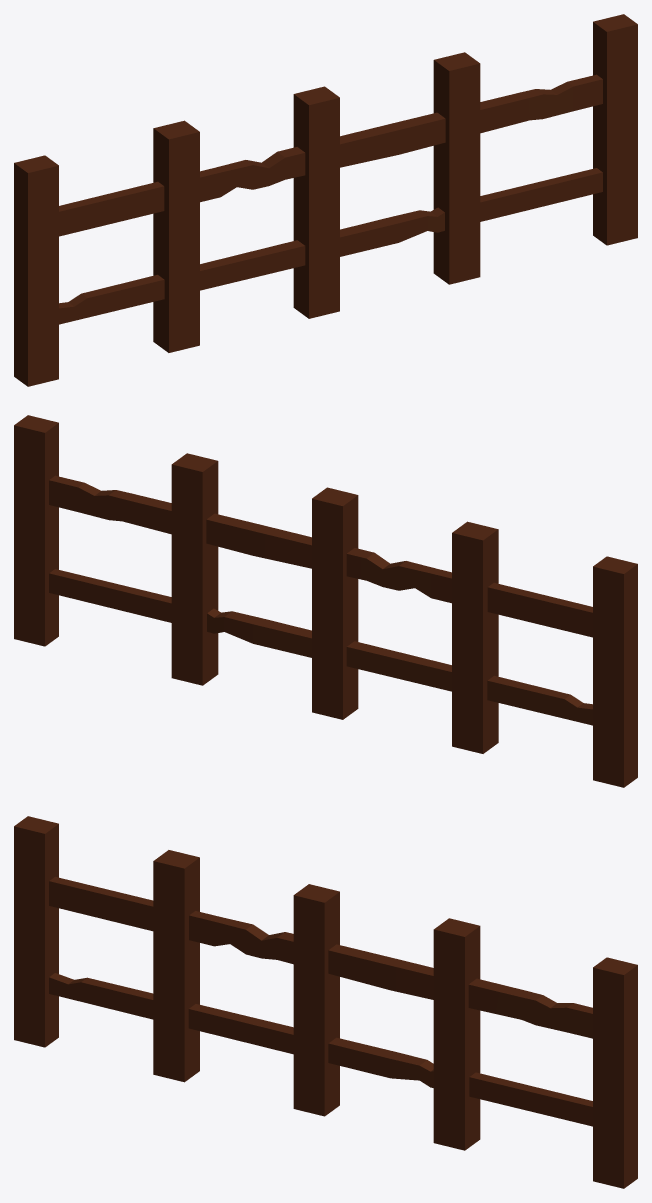
The model's file is Fence.obj.
The picture shows the model from 3 angles, top to bottom: view 1: azimuth 30°, elevation 25°; view 2: azimuth 150°, elevation 25°; view 3: azimuth 330°, elevation 25°; orthographic projection.
Parts seen in each view (by area): view 1: Fence_Cube.057; view 2: Fence_Cube.057; view 3: Fence_Cube.057.
Boxes of the visible parts, box(x1,y1,x2,y2) form: Fence_Cube.057: box(14, 14, 637, 386); Fence_Cube.057: box(14, 415, 637, 787); Fence_Cube.057: box(14, 816, 637, 1188).
Size of the model in its own units: 3.28 by 1.1 by 0.1428.
